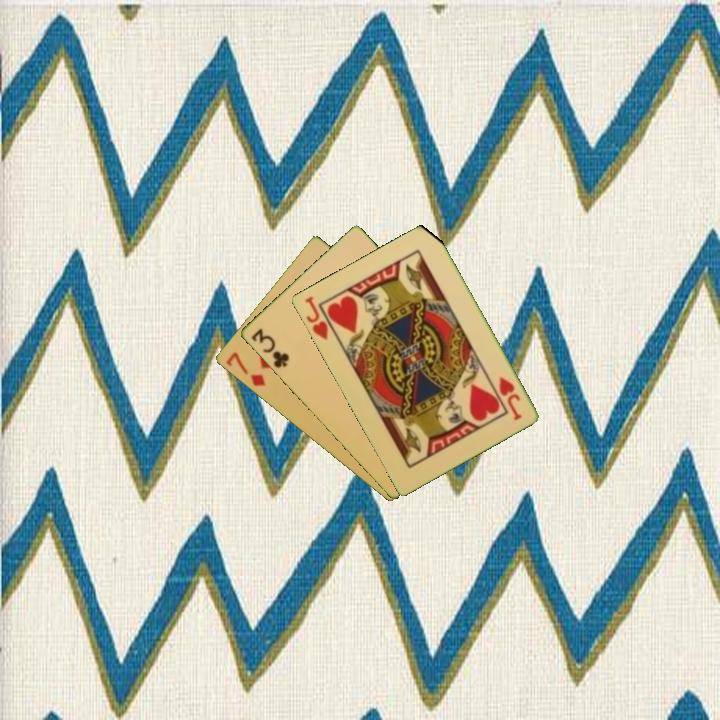3c: (247, 325, 292, 371)
7d: (222, 348, 268, 389)
Jh: (301, 293, 331, 343), (495, 373, 524, 423)
